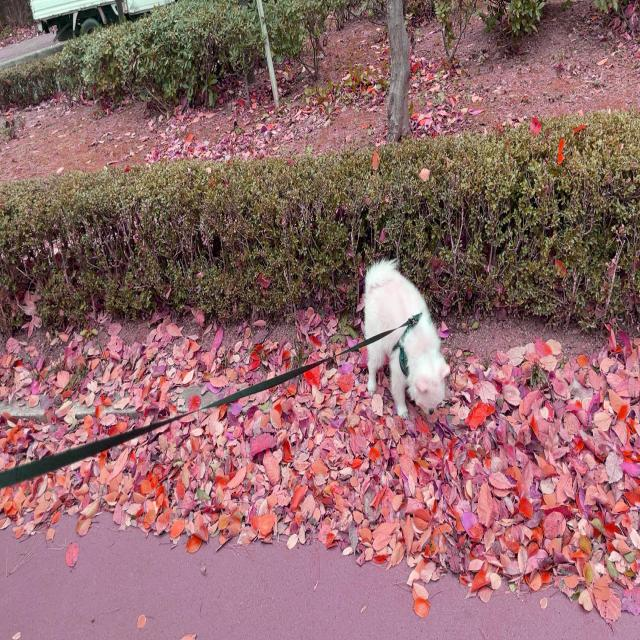Dog: (364, 258, 451, 423)
